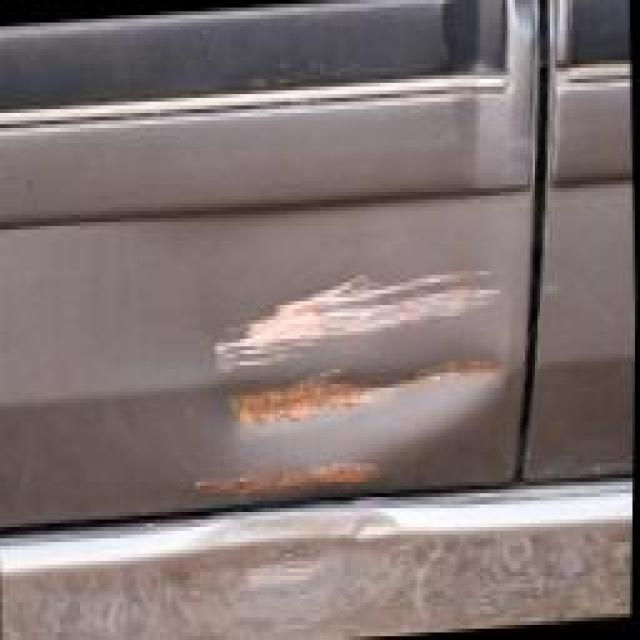Door: (152, 222, 529, 531)
